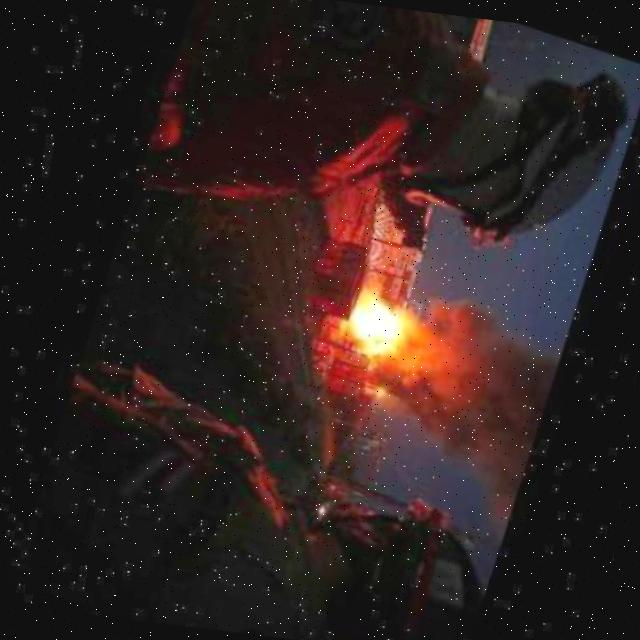fire: (342, 284, 415, 364)
